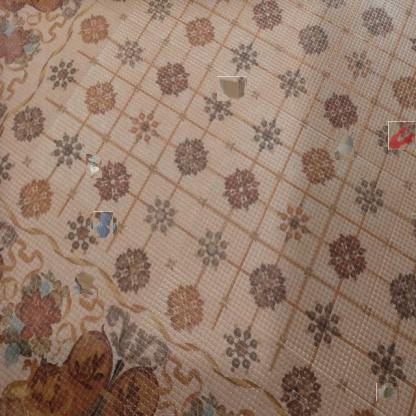dirty: (70, 268, 98, 298), (217, 76, 247, 101), (332, 134, 356, 158), (376, 384, 399, 402), (86, 154, 102, 178)
liquid: (388, 121, 415, 150), (92, 213, 115, 237)
